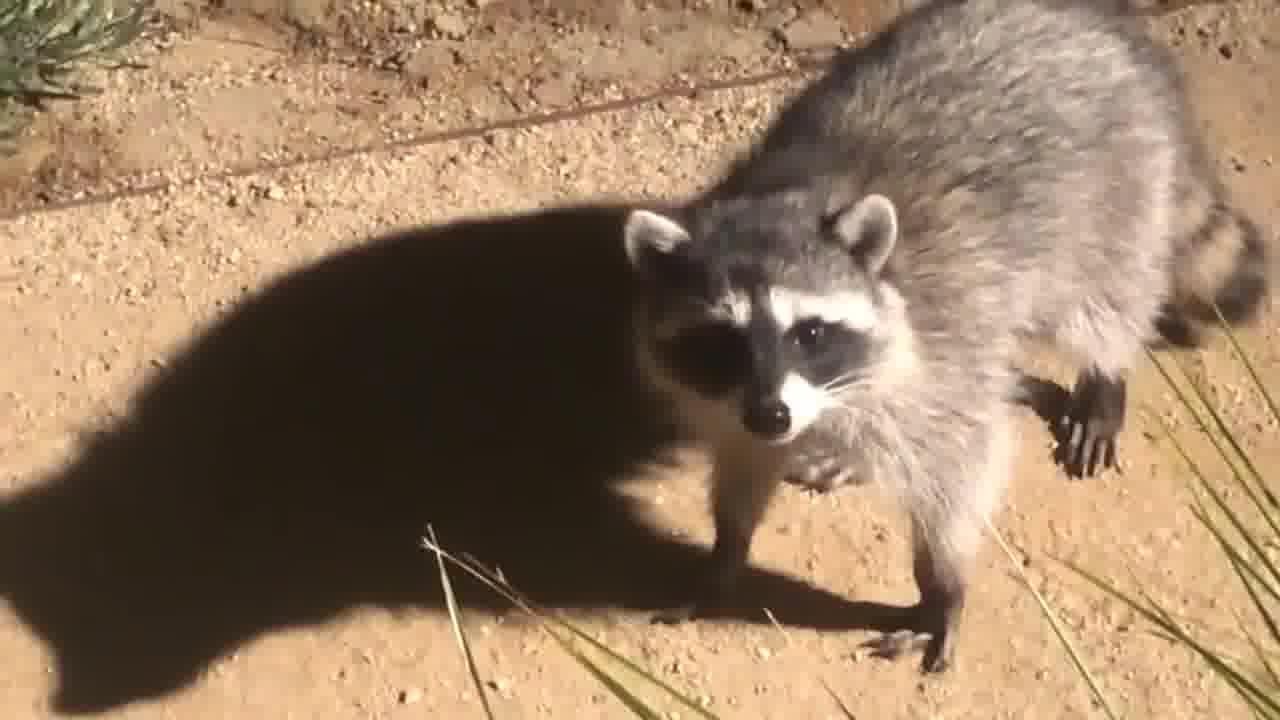raccoon: (600, 0, 1280, 683)
